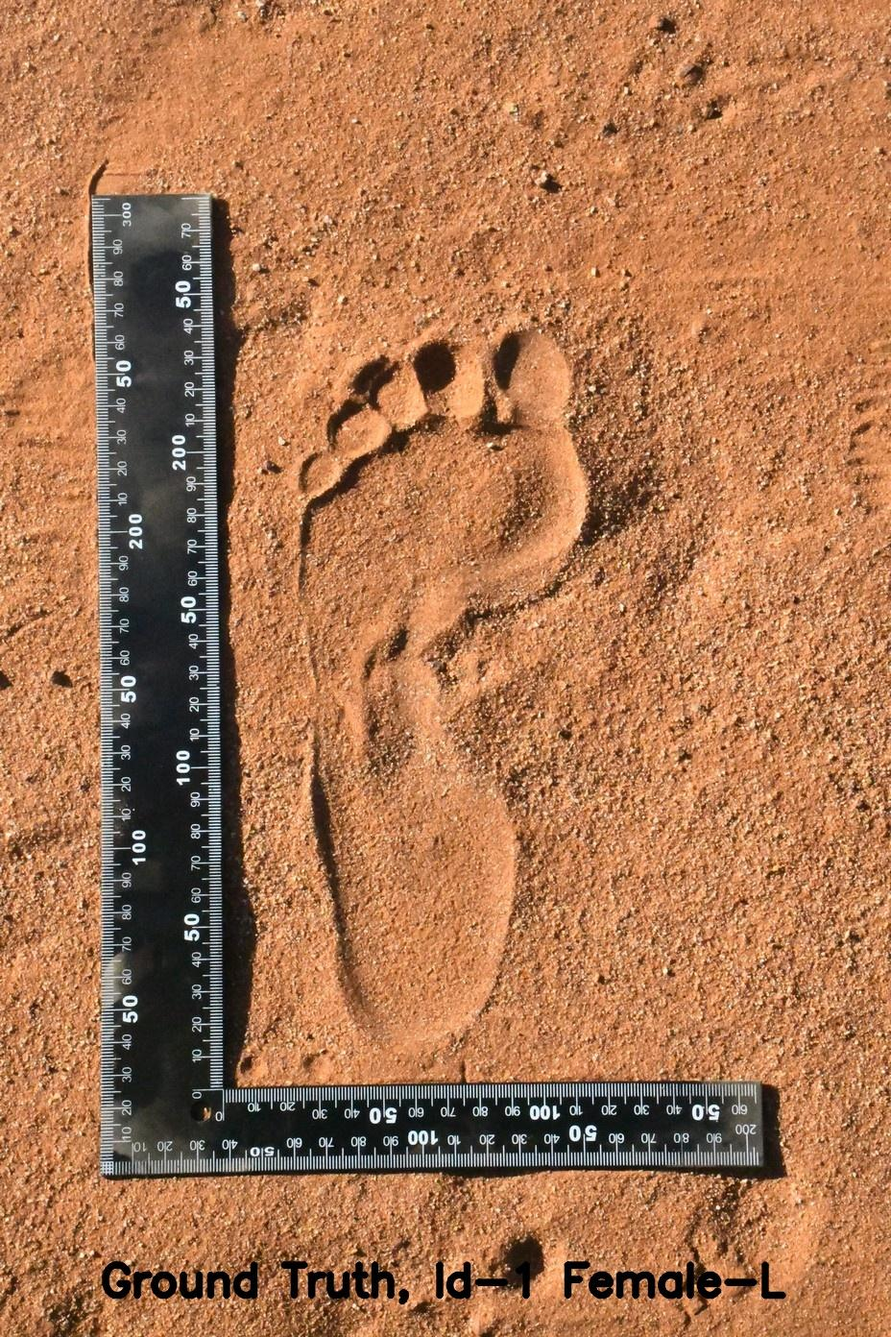human_footprint: (250, 244, 663, 1066)
